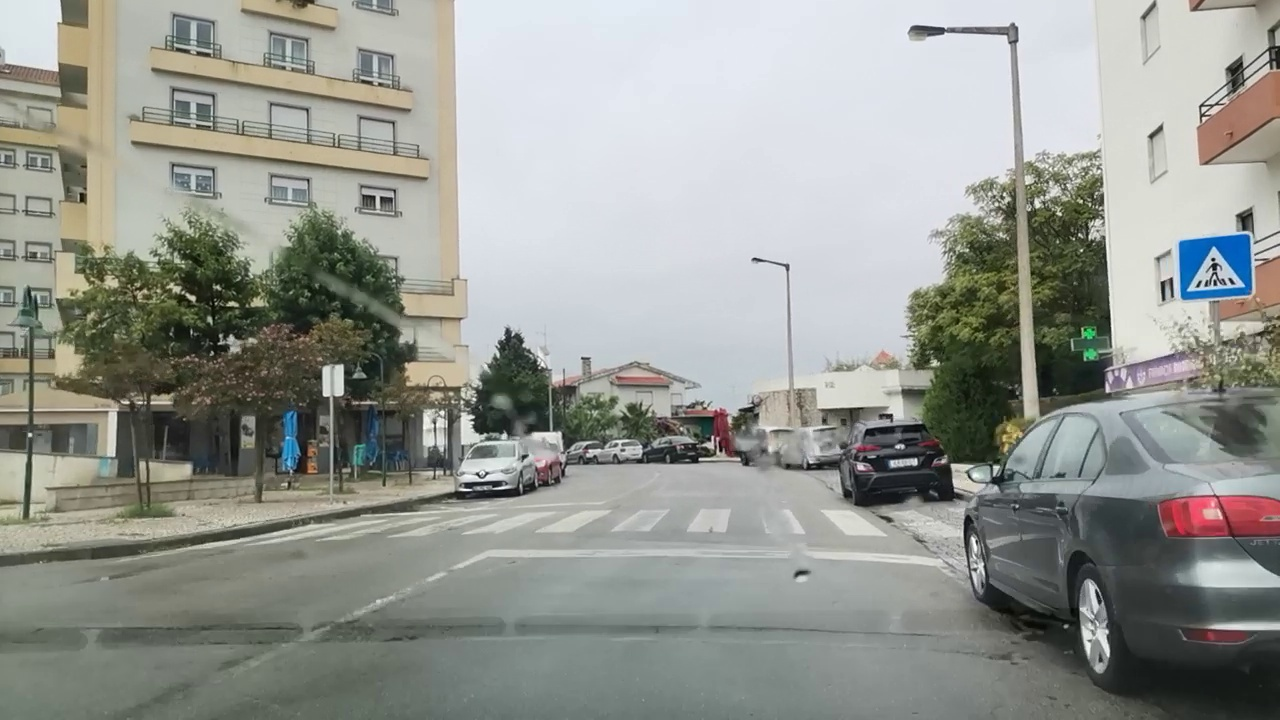Stairs: (228, 505, 887, 542)
